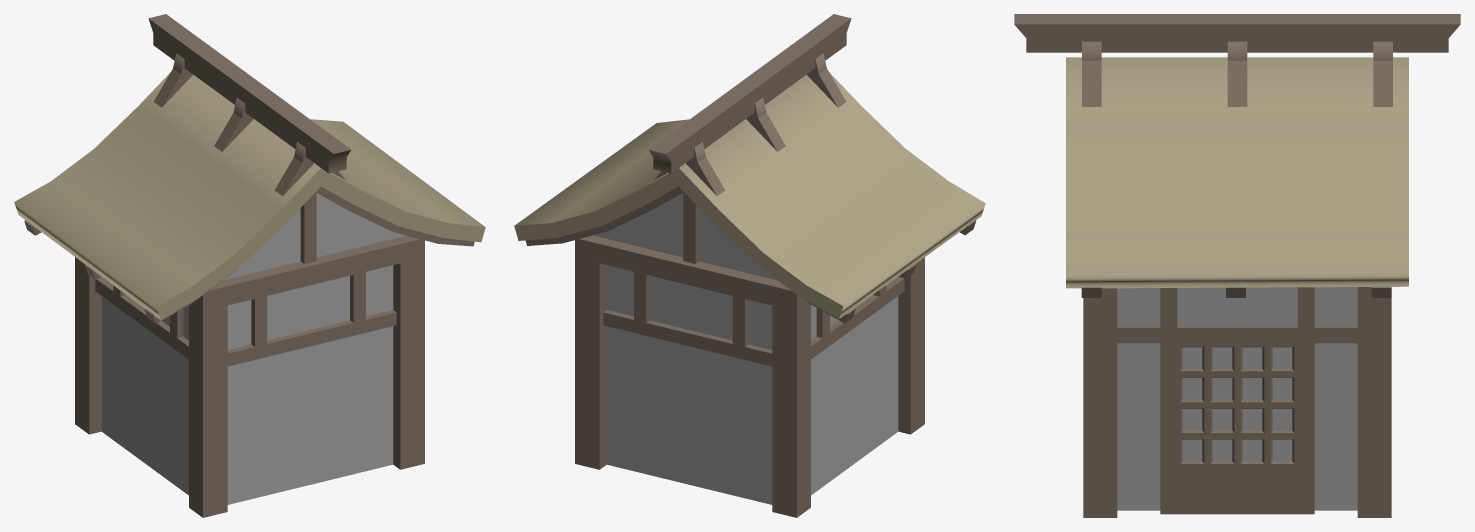
File: building8x8.fbx
3 views of the same model, side by side, from view 1: azimuth 30°, elevation 25°; view 2: azimuth 150°, elevation 25°; view 3: azimuth 270°, elevation 25° (orthographic). The views are drawn at different scales.
Parts seen in each view (by area): view 1: polySurface6, building_8x8, pCube2, pCube13, pCube3, pCube12, building_8x9, pCube1, pCube19, pCube20, polySurface8, pCube30 (+5 smaller); view 2: polySurface6, building_8x8, pCube1, pCube13, pCube4, pCube12, building_8x9, pCube2, pCube18, pCube20, polySurface7, pCube29 (+5 smaller); view 3: polySurface6, building_8x8, pCube17, pCube13, pCube3, pCube4, pCube5, pCube6, pCube11, pCube16, pCube15, pCube14 (+2 smaller).
Part boxes in pixels (x1,y1,x2,y2): polySurface6: (14, 72, 485, 320); building_8x8: (101, 265, 393, 504); pCube2: (189, 303, 227, 517); pCube13: (148, 14, 351, 173); pCube3: (393, 257, 424, 469); pCube12: (192, 235, 424, 311); building_8x9: (223, 193, 405, 280); pCube1: (75, 257, 101, 434); pCube19: (227, 310, 396, 366); pCube20: (95, 277, 188, 359); polySurface8: (144, 186, 474, 323); pCube30: (300, 192, 316, 263); polySurface6: (514, 72, 985, 318); building_8x8: (606, 265, 898, 504); pCube1: (772, 303, 810, 517); pCube13: (648, 14, 851, 173); pCube4: (575, 257, 606, 469); pCube12: (575, 235, 807, 311); building_8x9: (593, 193, 777, 280); pCube2: (898, 257, 924, 434); pCube18: (603, 310, 772, 366); pCube20: (811, 277, 904, 359); polySurface7: (525, 188, 855, 323); pCube29: (683, 192, 699, 263); polySurface6: (1066, 57, 1408, 288); building_8x8: (1117, 287, 1357, 510); pCube17: (1177, 343, 1297, 514); pCube13: (1014, 14, 1460, 52); pCube3: (1083, 288, 1117, 517); pCube4: (1357, 287, 1391, 517); pCube5: (1117, 324, 1357, 343); pCube6: (1160, 343, 1177, 514); pCube11: (1297, 343, 1314, 514); pCube16: (1227, 41, 1247, 106); pCube15: (1082, 41, 1101, 106); pCube14: (1373, 41, 1392, 106).
Bounding box in the file's own units: 1335 × 1395 × 1302.
